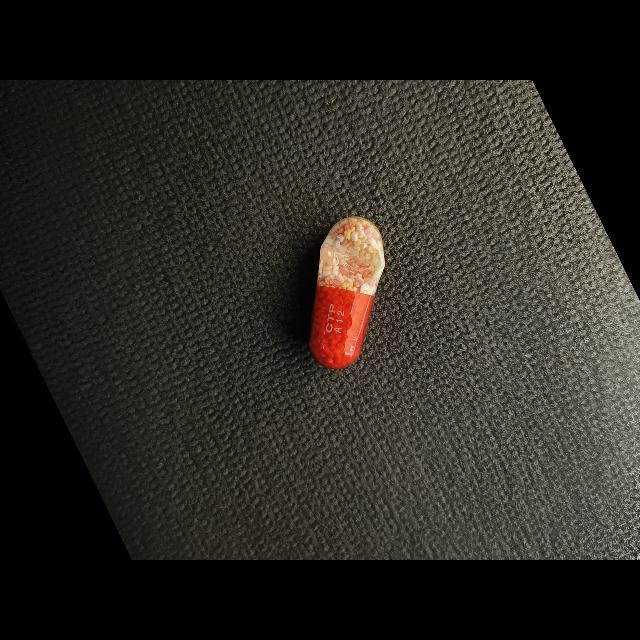Defective Capsule: (310, 217, 385, 369)
